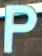Parking: (3, 2, 37, 55)
